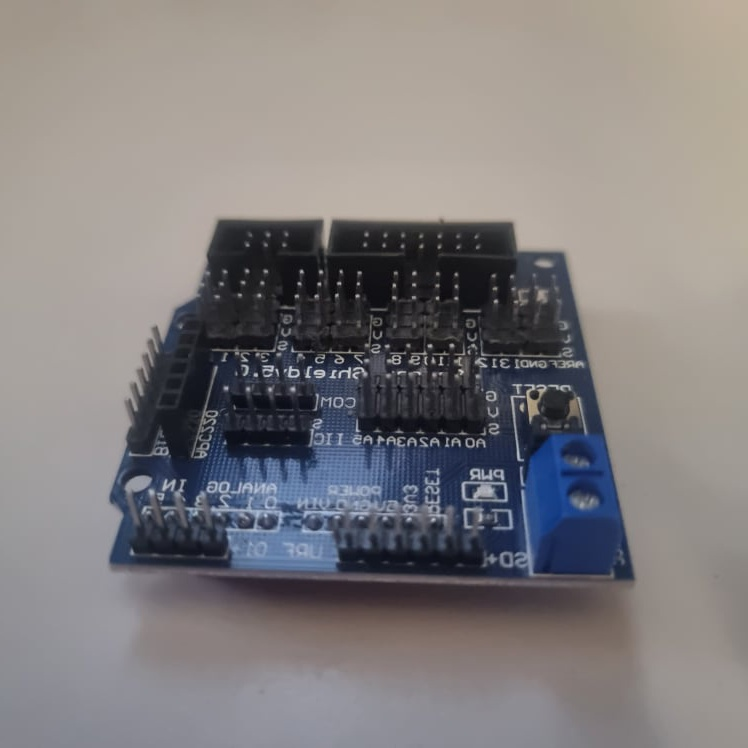5V EXPANSION: (103, 210, 635, 577)
